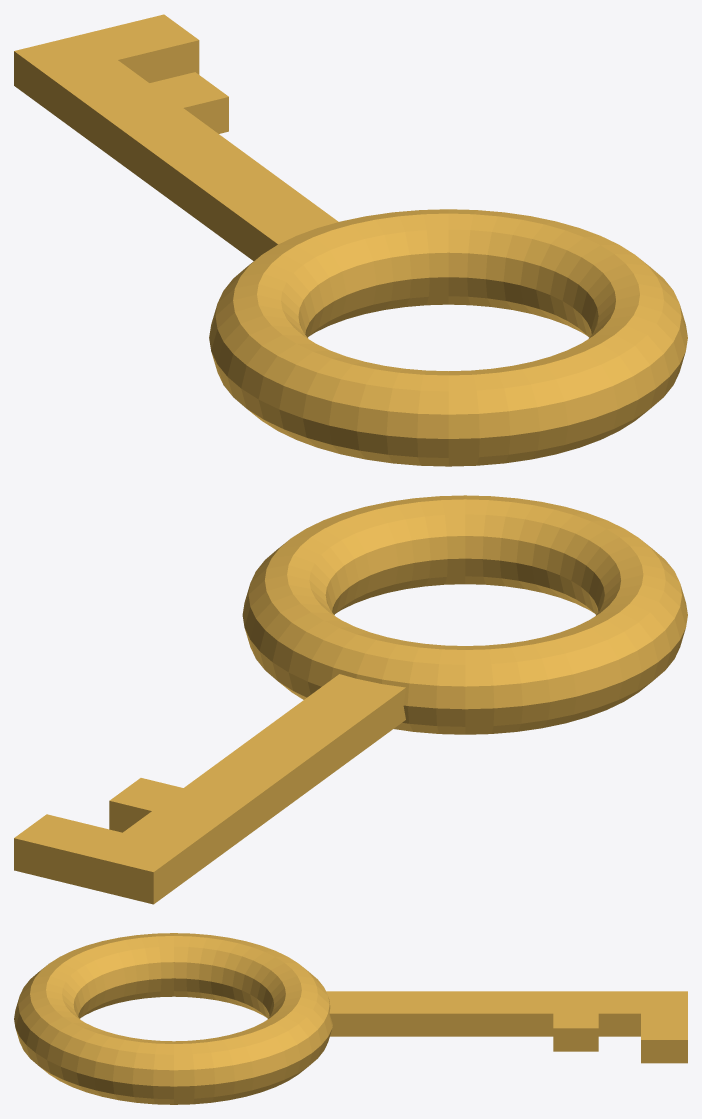
The model's file is Key.fbx.
3 views of the same model, one above another, from view 1: azimuth 30°, elevation 25°; view 2: azimuth 150°, elevation 25°; view 3: azimuth 270°, elevation 25° (orthographic). The views are drawn at different scales.
Parts seen in each view (by area): view 1: Torus; view 2: Torus; view 3: Torus.
Boxes of the visible parts, box(x1,y1,x2,y2) form: Torus: box(14, 14, 687, 466); Torus: box(14, 495, 687, 904); Torus: box(14, 933, 687, 1104).
Size of the model in its own units: 31.25 by 6.25 by 65.84.
